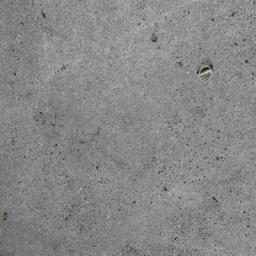FOD: (194, 60, 217, 85)
